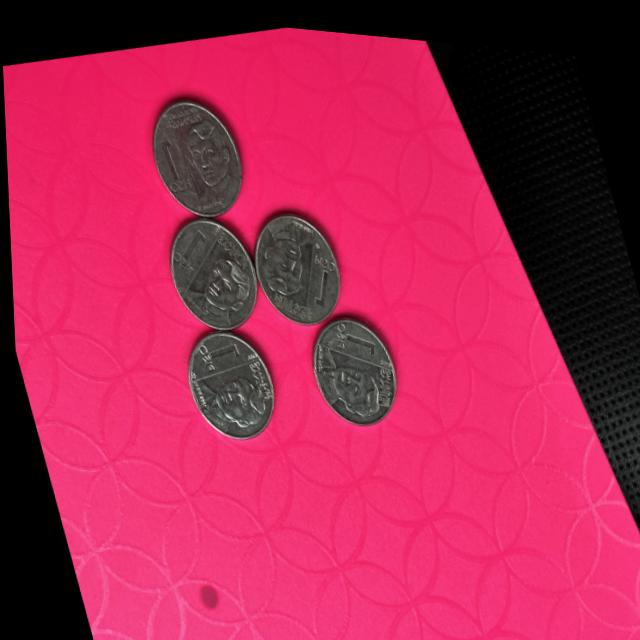1_New_Front: (141, 121, 195, 196), (162, 216, 219, 283), (299, 238, 343, 310), (322, 308, 379, 362), (186, 327, 245, 377)
